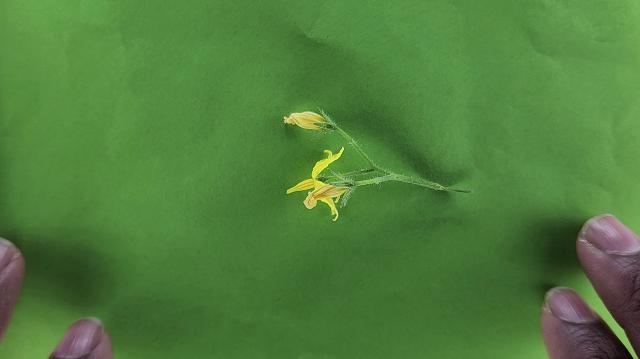Anthesis: (285, 146, 349, 219), (284, 111, 336, 134)
